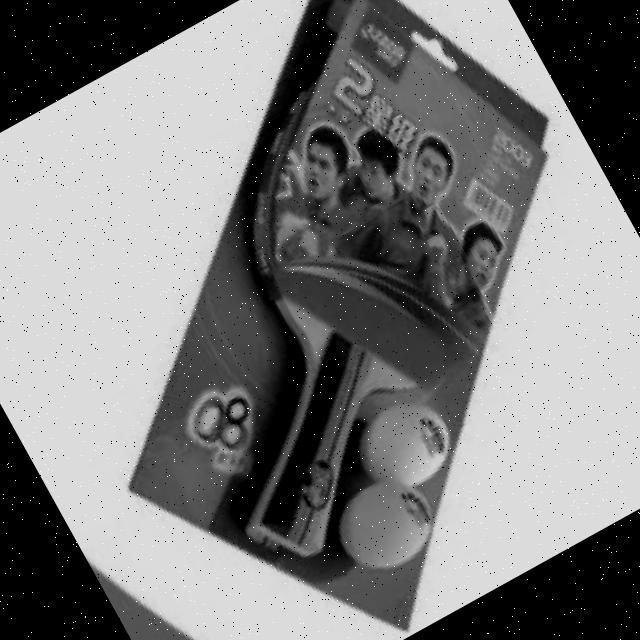ping-pong-ball: (323, 464, 450, 586), (346, 390, 464, 502)
